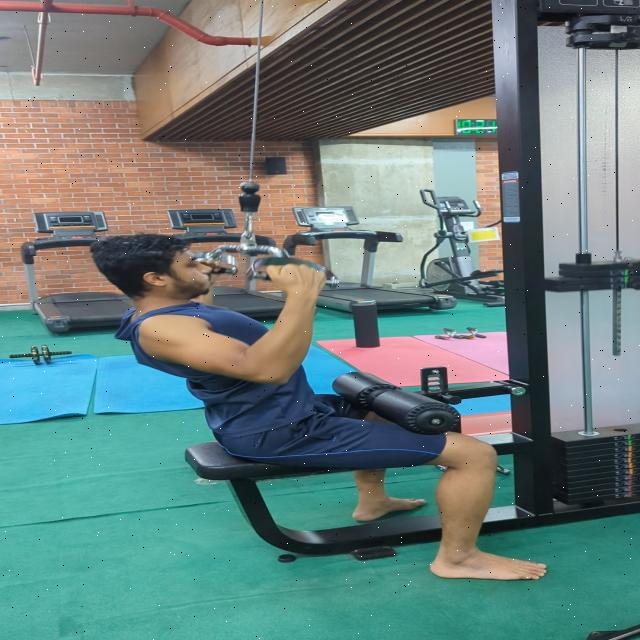Normal_LatPulldown: (56, 202, 581, 588)
